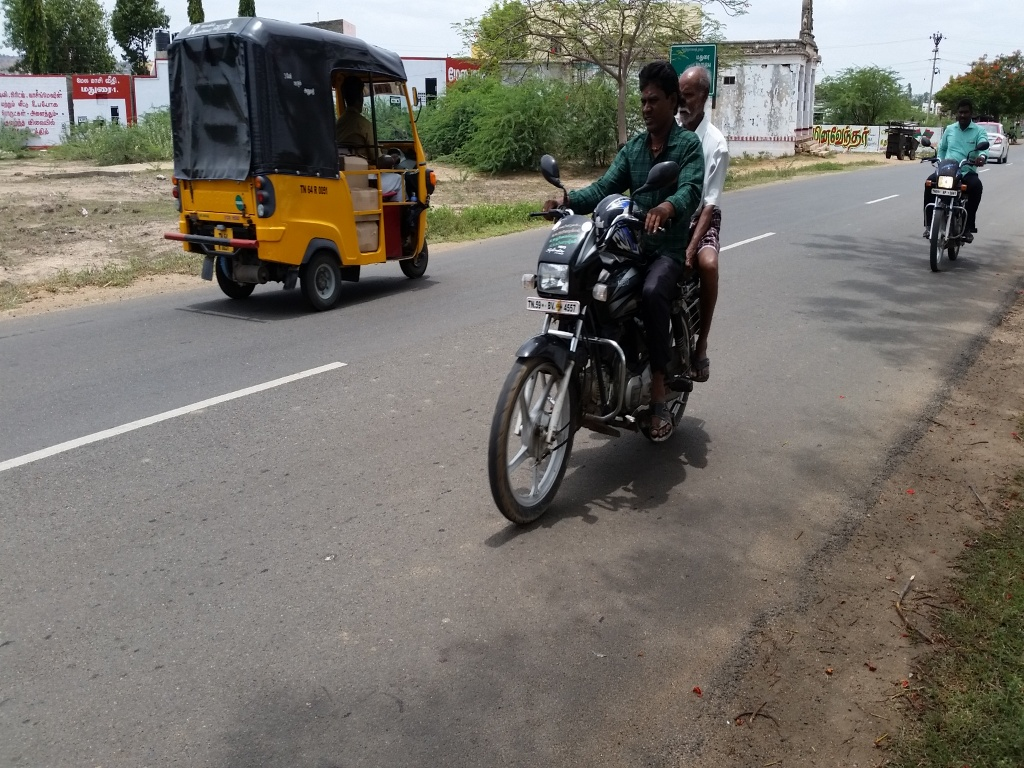biker: (476, 31, 772, 532), (902, 72, 1008, 283)
nohelmet: (632, 48, 680, 141), (677, 50, 720, 142), (942, 90, 981, 137)
